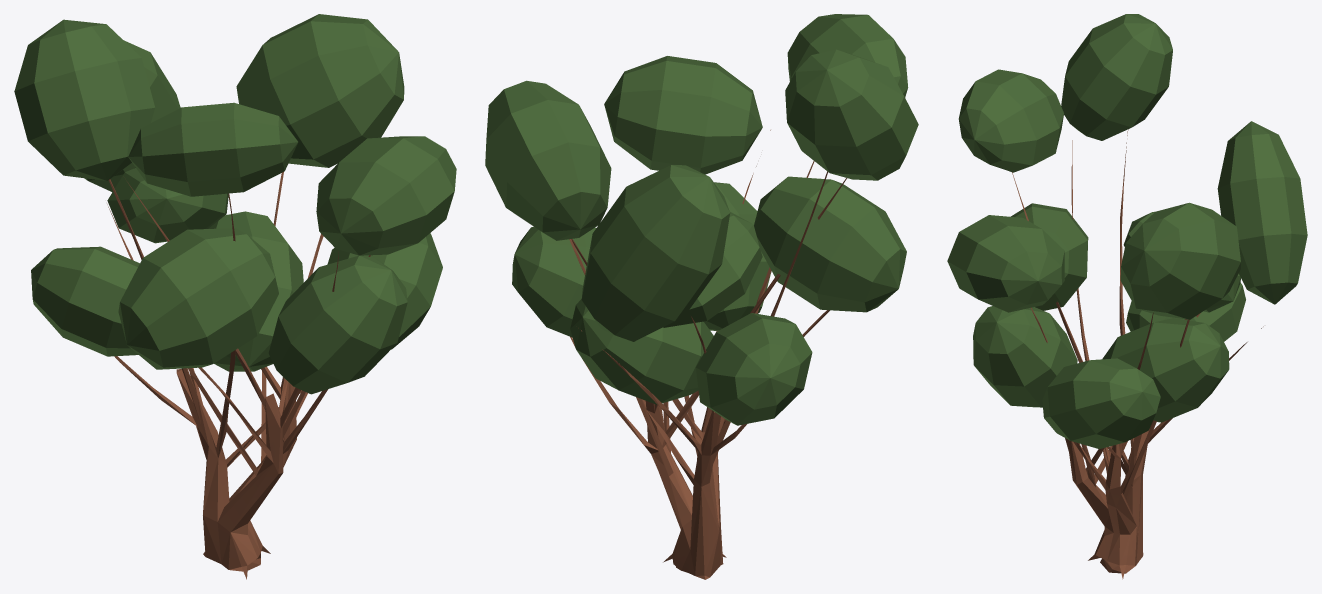
The model's file is Arbousier_1_Niveau2.fbx.
3 views of the same model, side by side, from view 1: azimuth 30°, elevation 25°; view 2: azimuth 150°, elevation 25°; view 3: azimuth 270°, elevation 25° (orthographic). The views are drawn at different scales.
Parts seen in each view (by area): view 1: Arbousier_1_Niveau2_Jeu; view 2: Arbousier_1_Niveau2_Jeu; view 3: Arbousier_1_Niveau2_Jeu.
Boxes of the visible parts, left/top/right/bottom form: Arbousier_1_Niveau2_Jeu: left=14, top=14, right=456, bottom=579; Arbousier_1_Niveau2_Jeu: left=485, top=14, right=918, bottom=579; Arbousier_1_Niveau2_Jeu: left=947, top=14, right=1307, bottom=579.
Size of the model in its own units: 251 by 342 by 231.
